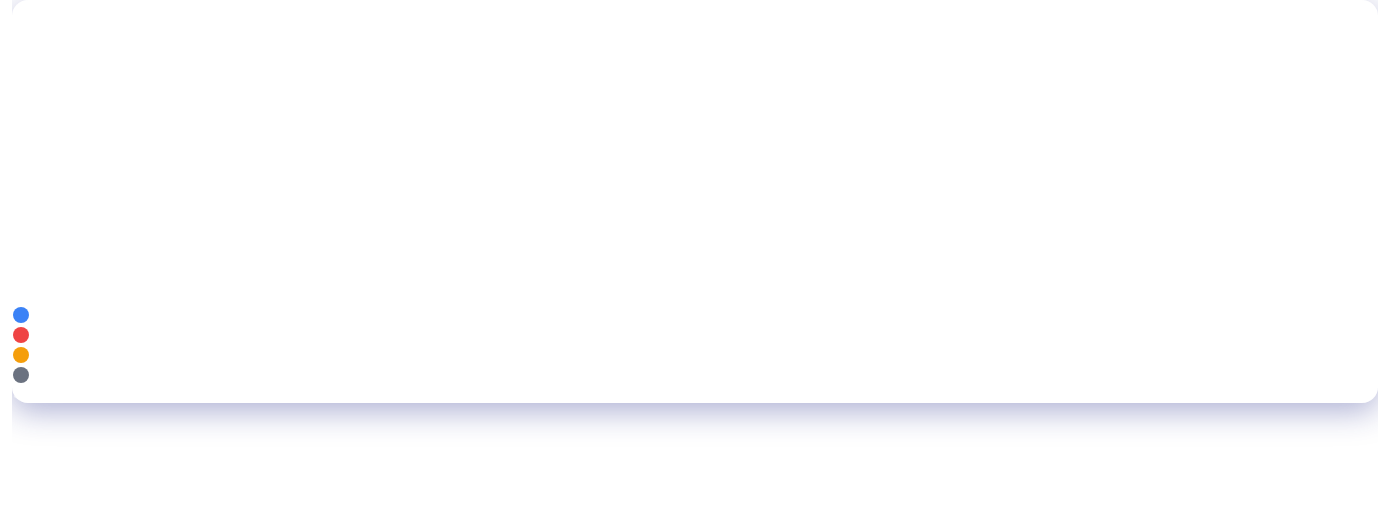
SourceAttributionCard › Interactive Features › Detailed Breakdown Content › should display all required information in breakdown
Click the element with test id "legend-item-industrial" at x=72, y=334, box x1=13 y1=325 x2=1377 y2=345
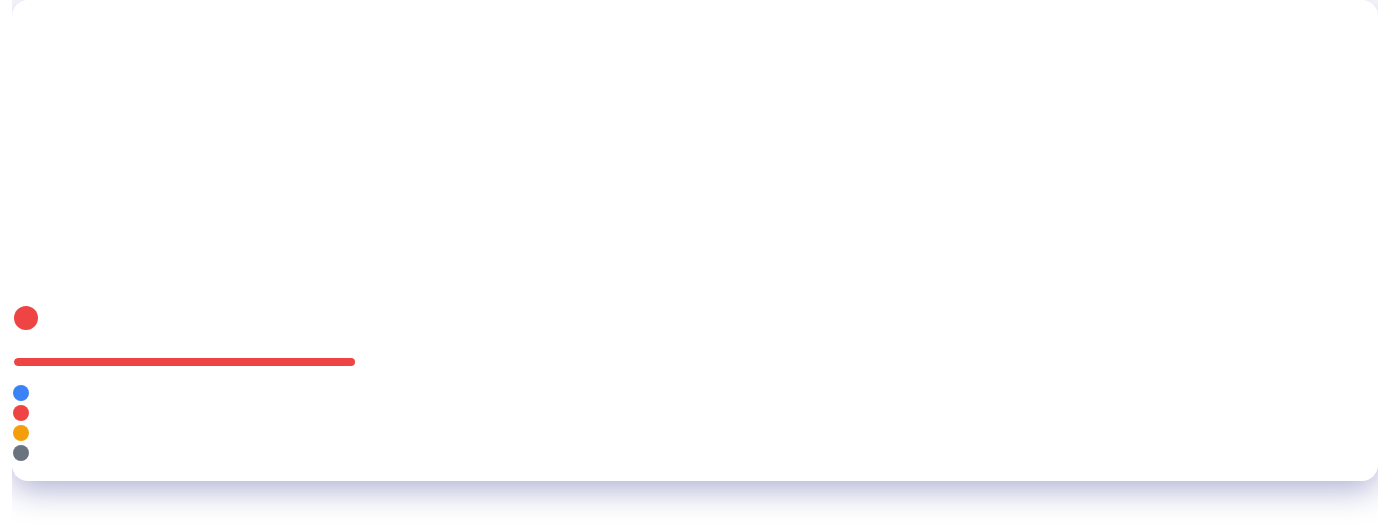
Result: the element with test id "selected-segment-details" shows "25%" at x1=13 y1=305 x2=1377 y2=383
Result: the element with test id "selected-segment-details" shows "Pollution from factories" at x1=14 y1=366 x2=885 y2=381
